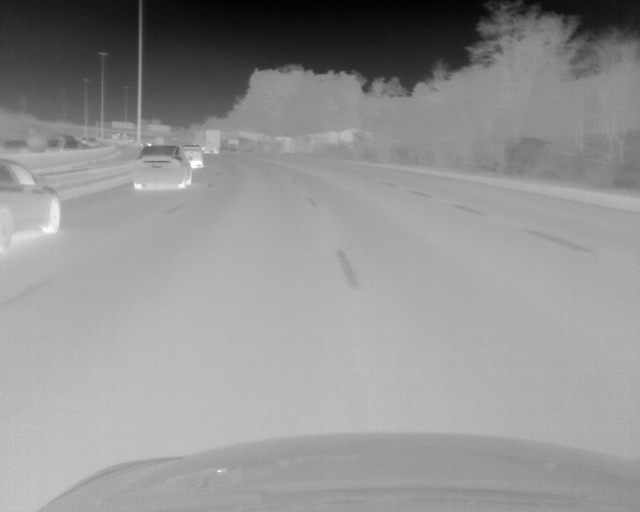car: (1, 157, 63, 252), (130, 144, 193, 189), (195, 130, 220, 152), (185, 145, 203, 168)
